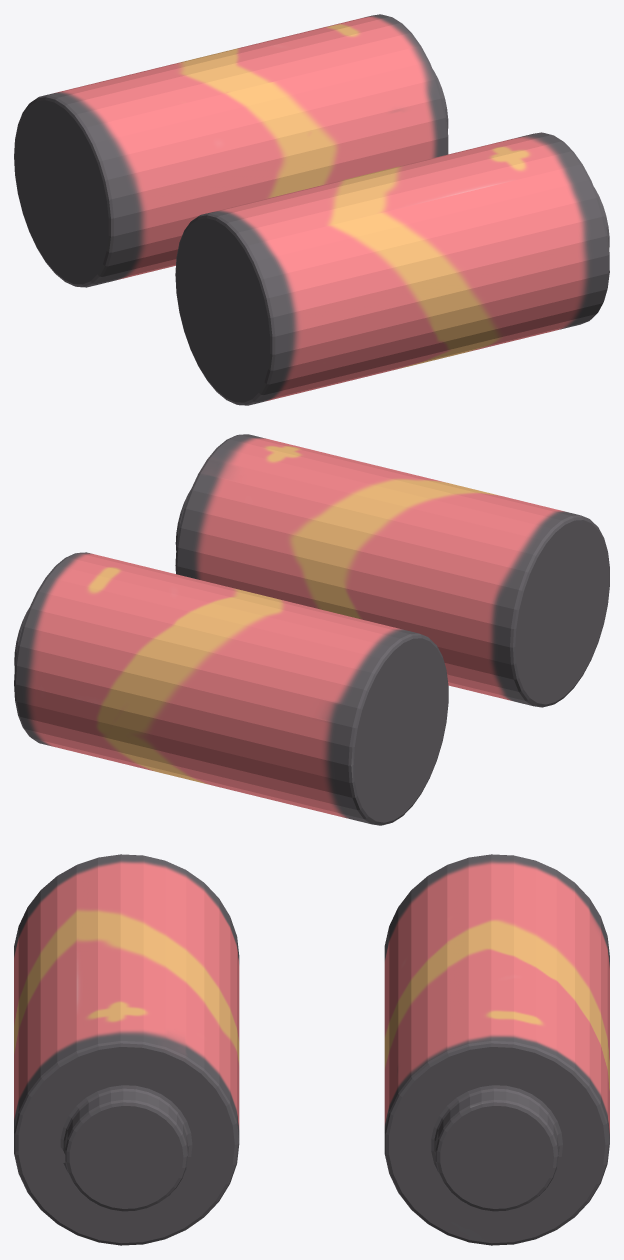
Rendered from Batteries.fbx.
The picture shows the model from 3 angles, top to bottom: view 1: azimuth 30°, elevation 25°; view 2: azimuth 150°, elevation 25°; view 3: azimuth 270°, elevation 25°; orthographic projection. The views are drawn at different scales.
Visible parts, largest first — view 1: Pos_Battery, Neg_Battery; view 2: Neg_Battery, Pos_Battery; view 3: Neg_Battery, Pos_Battery.
Part boxes in pixels (box(x1,y1,x2,y2)): Pos_Battery: box(175, 132, 609, 405); Neg_Battery: box(14, 14, 448, 287); Neg_Battery: box(14, 552, 448, 825); Pos_Battery: box(175, 434, 609, 707); Neg_Battery: box(384, 854, 609, 1245); Pos_Battery: box(14, 854, 239, 1245).
Size of the model in its own units: 212 by 99.87 by 264.
